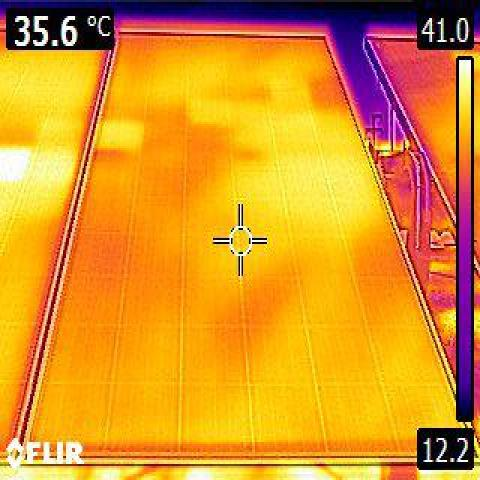fault: (0, 147, 28, 183)
